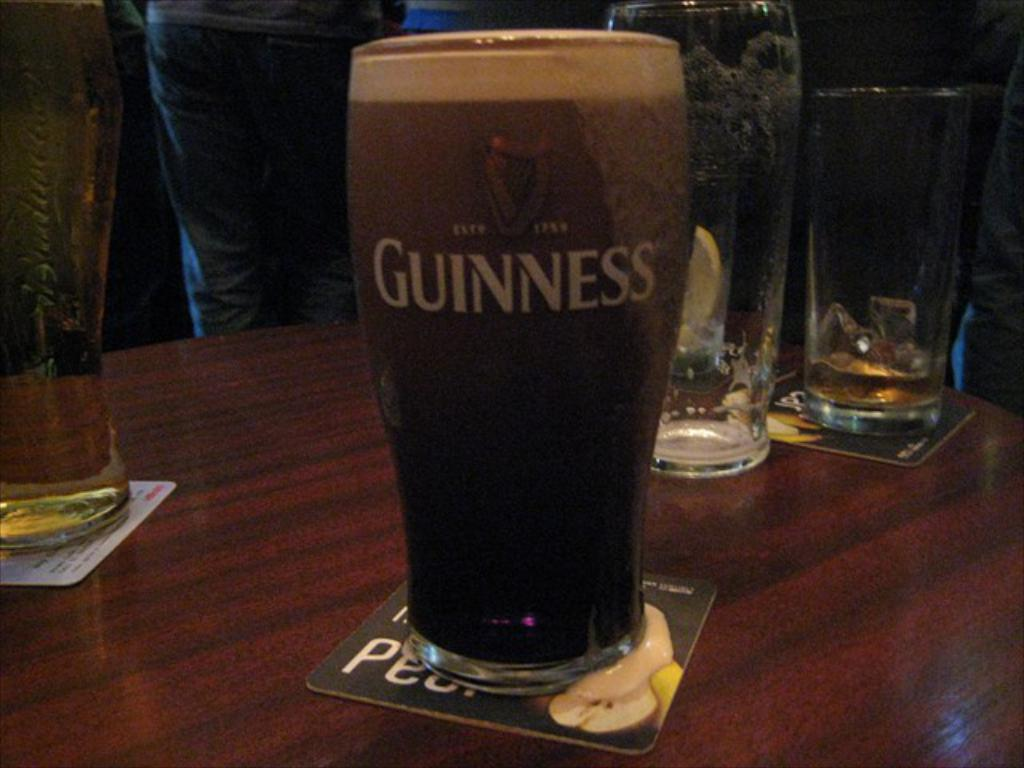Beer: (346, 29, 697, 703), (0, 0, 130, 556), (803, 85, 974, 437)
